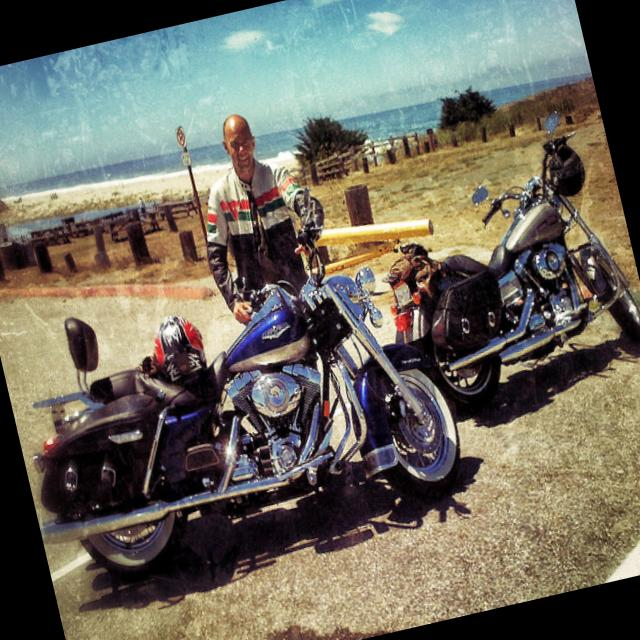Vehicle: (0, 171, 475, 588), (358, 102, 640, 423)
